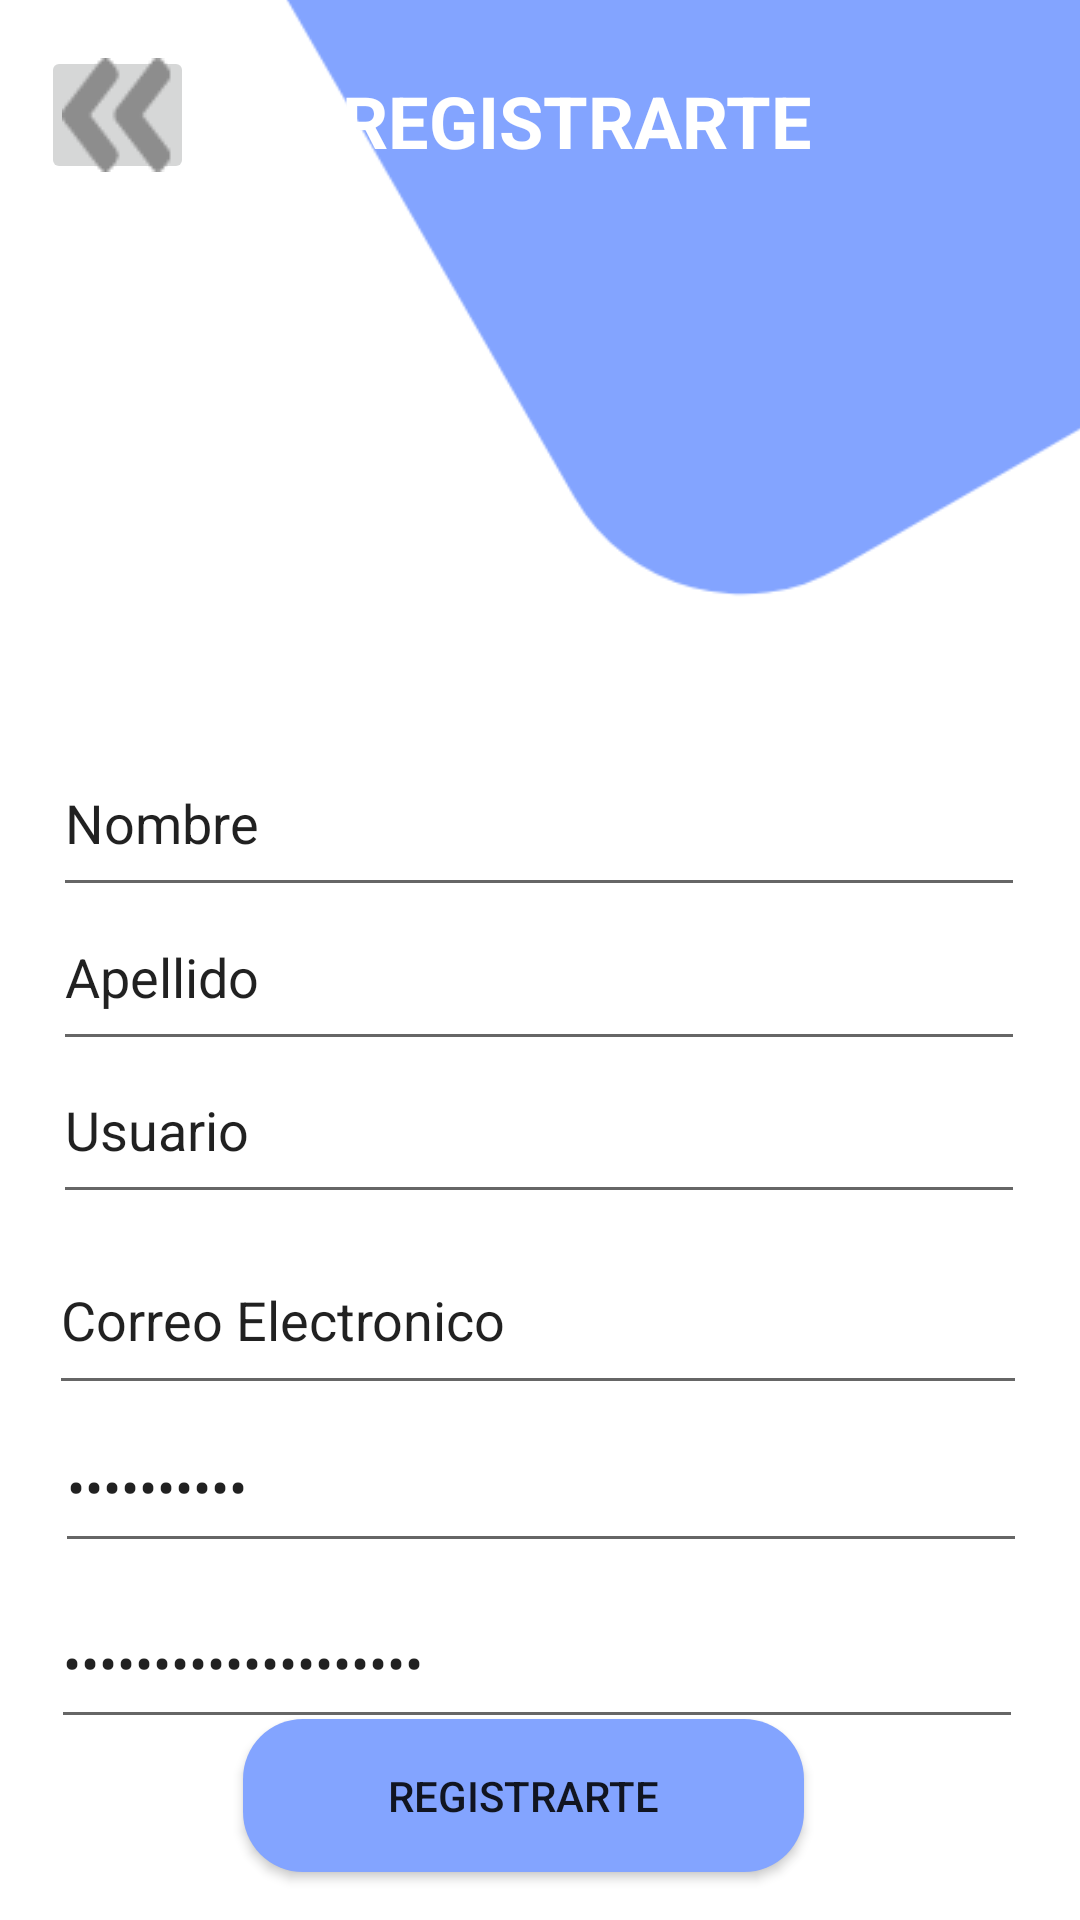

Icon click points for this 1080 x 1920 phone screenshot, format (x,y):
exit: (117,115)
